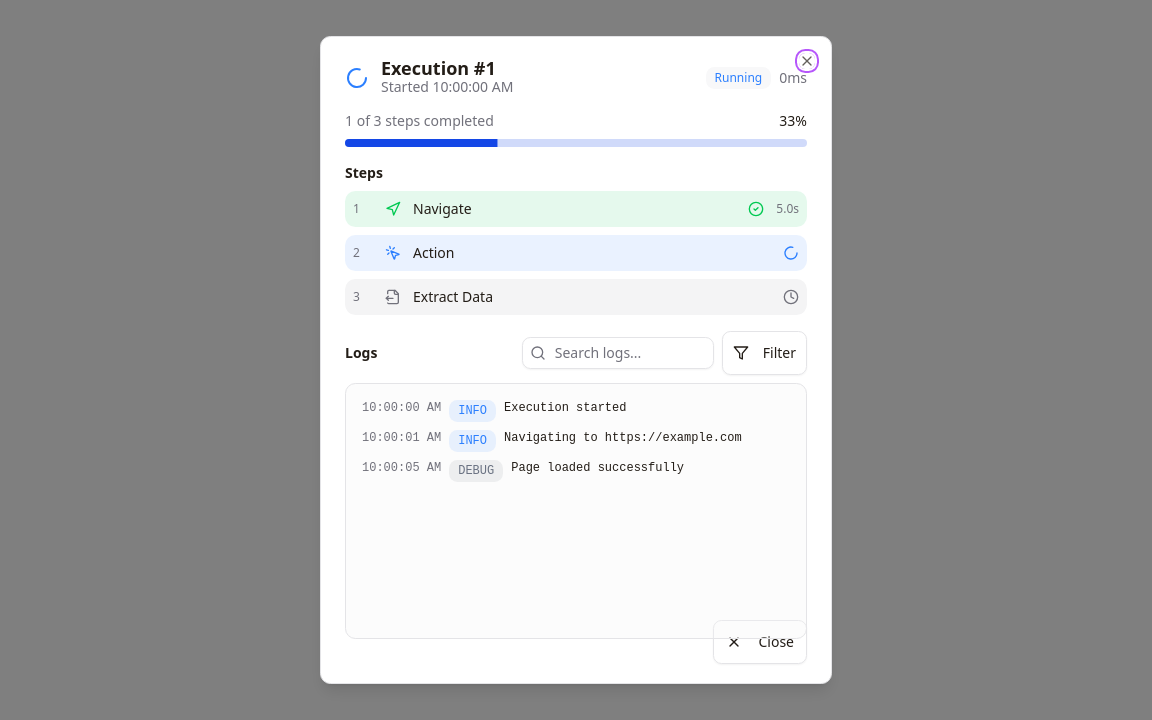
WorkflowExecutionMonitor - Log Streaming › searches logs by content
Check: the text "Execution started" is shown, box [504,401,626,415]
Type "navigating" into the field with placeholder "Search logs...".
click(618, 353); type("navigating")  # box [522,337,714,369]
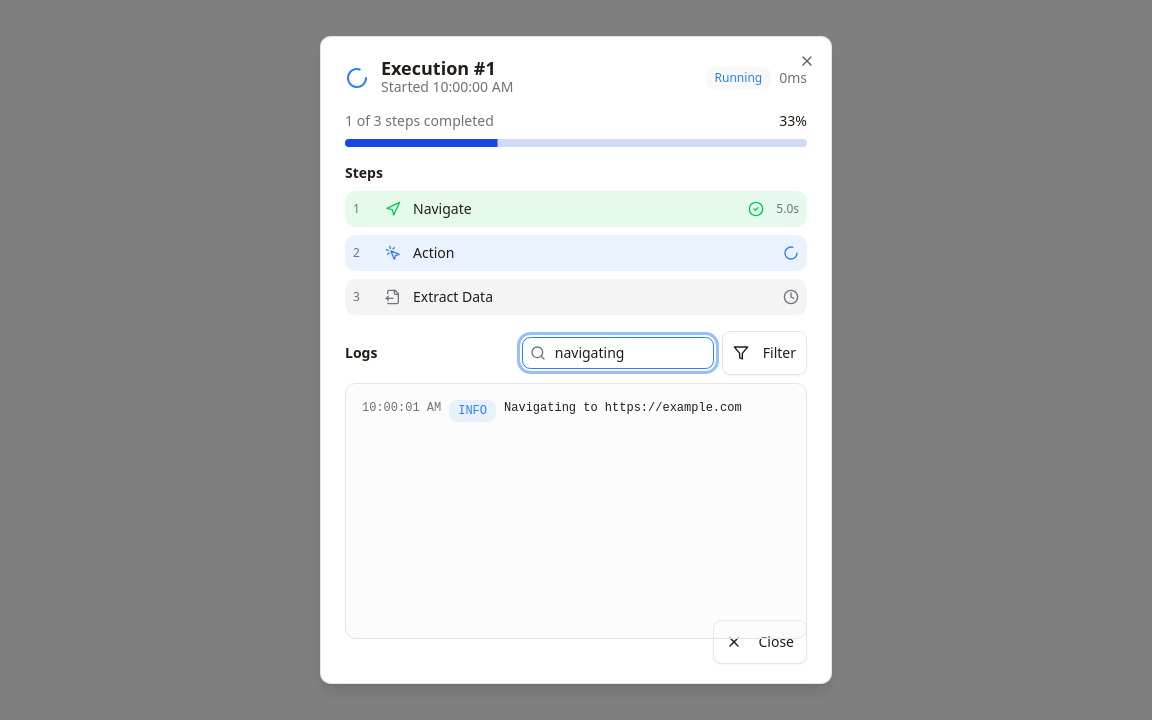
Check: the text "Navigating to https://example.com" is shown, box [504,401,742,415]
Check: the text "Page loaded successfully" is gone
